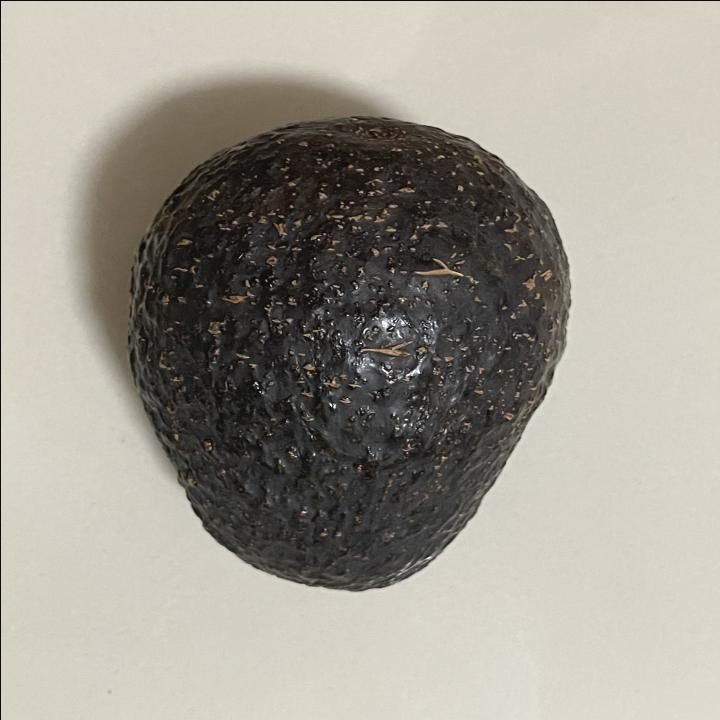Level3: (114, 106, 584, 600)
